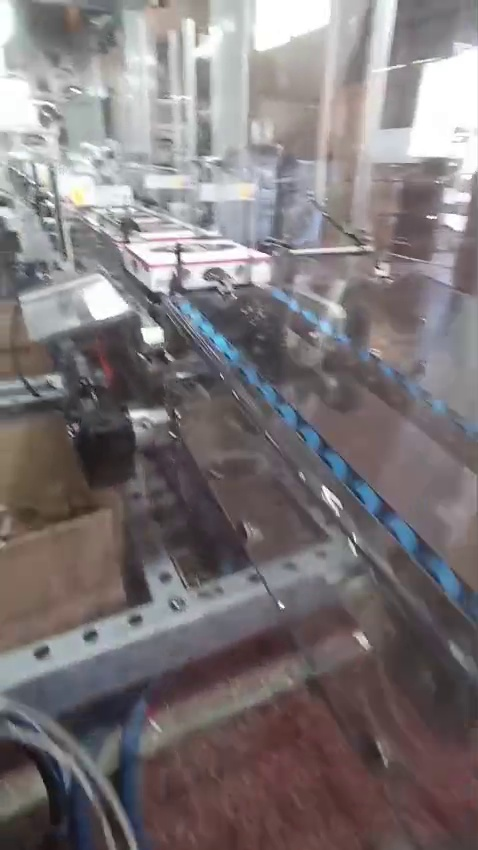savon: (0, 422, 127, 631), (0, 326, 44, 376), (0, 806, 42, 839), (81, 592, 108, 609), (0, 639, 32, 650), (65, 11, 80, 31)
